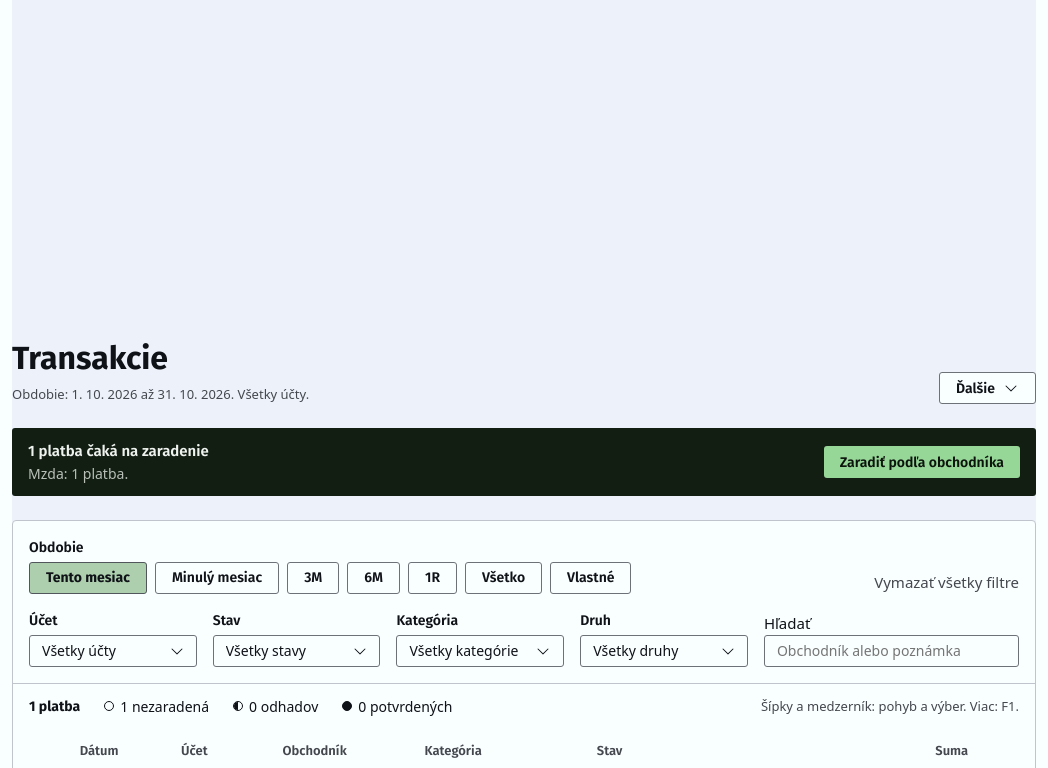
transaction filters, export and sums › cancels CSV without invoking export
The width and height of the screenshot is (1048, 768).
(page scrolled)
Click the button "Ďalšie".
click(988, 388)  # box top-left (939, 372), bottom-right (1036, 404)
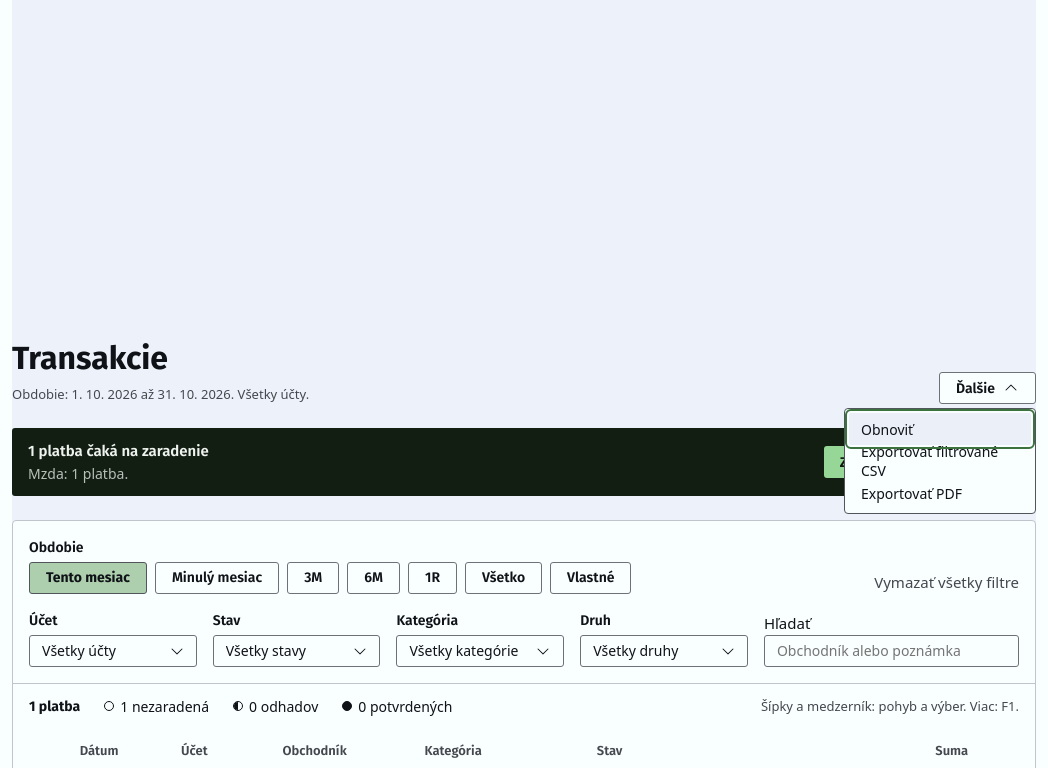
Click the menu item "Exportovať filtrované CSV".
click(940, 461)  # box top-left (849, 445), bottom-right (1031, 477)
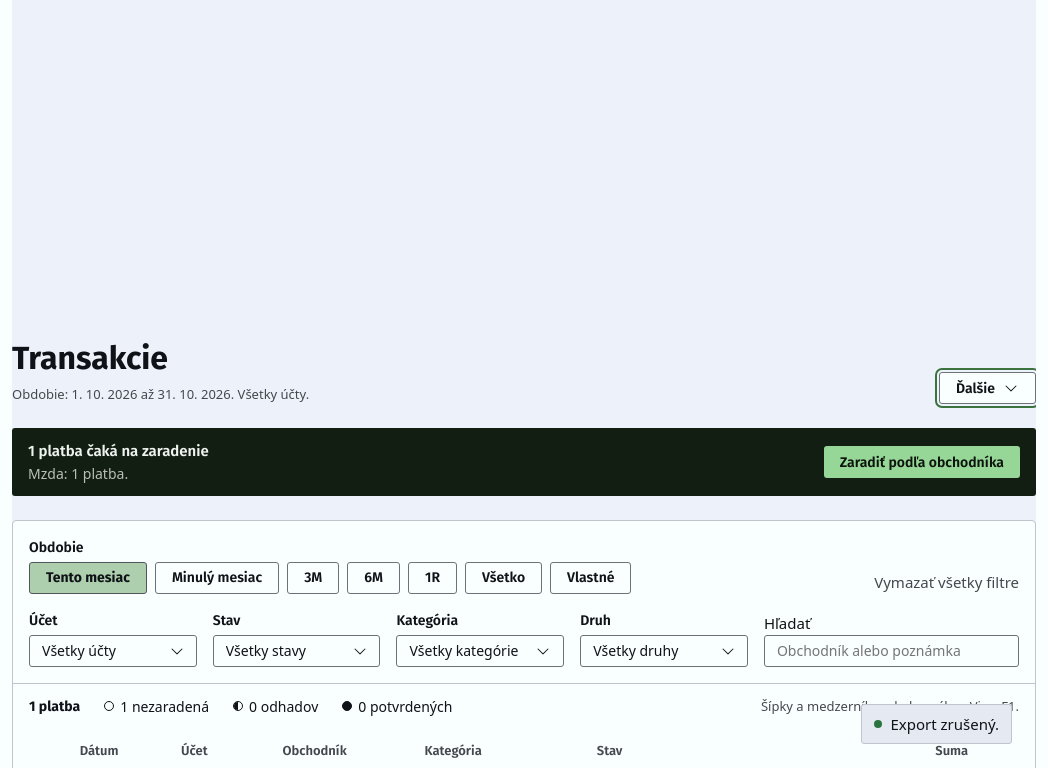
Result: the text "Export zrušený." is shown at top-left (890, 712), bottom-right (999, 735)
